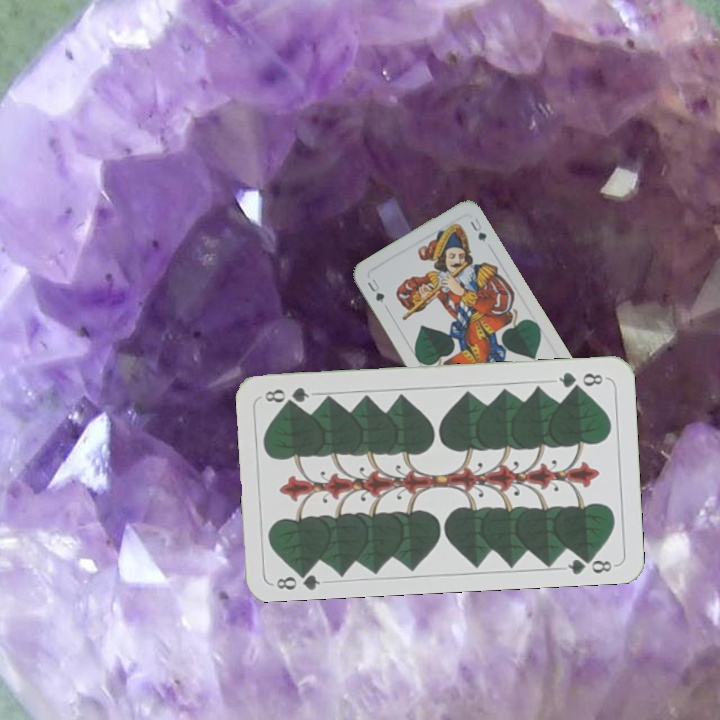G8: (272, 564, 323, 593), (554, 368, 606, 392)
GU: (363, 274, 387, 306)
